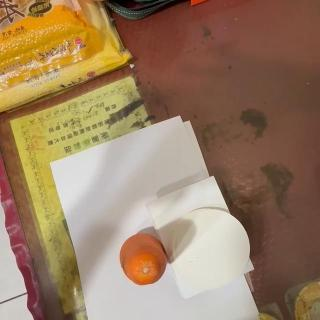carrot: (118, 234, 168, 286)
